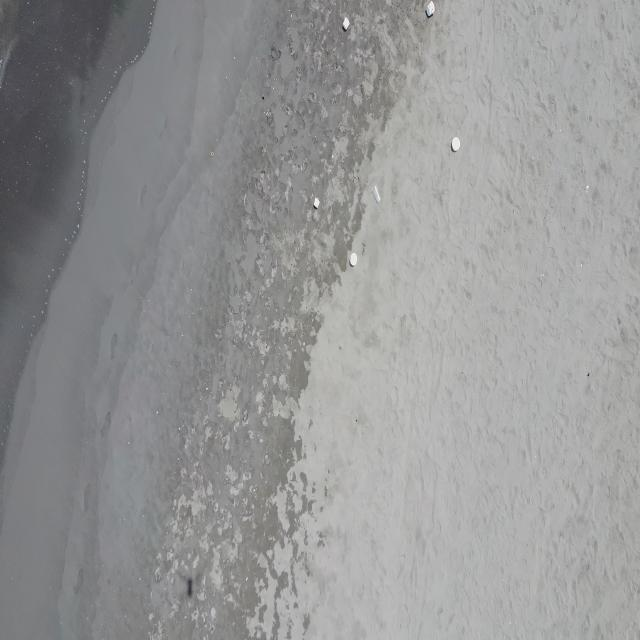take-away-containers: (426, 1, 436, 18), (452, 136, 461, 152), (349, 252, 358, 266), (342, 17, 350, 31), (313, 197, 320, 209)
takeaway-cup: (372, 183, 381, 205)
